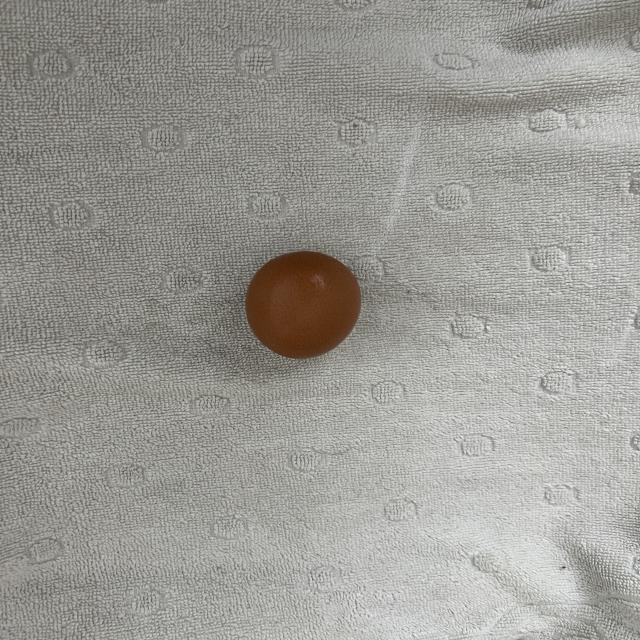Egg: (238, 250, 365, 363)
